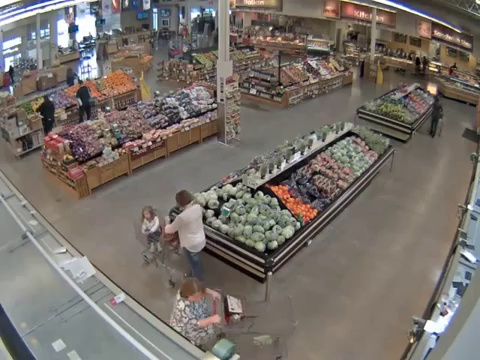face: (190, 293, 203, 303), (143, 208, 152, 219)
